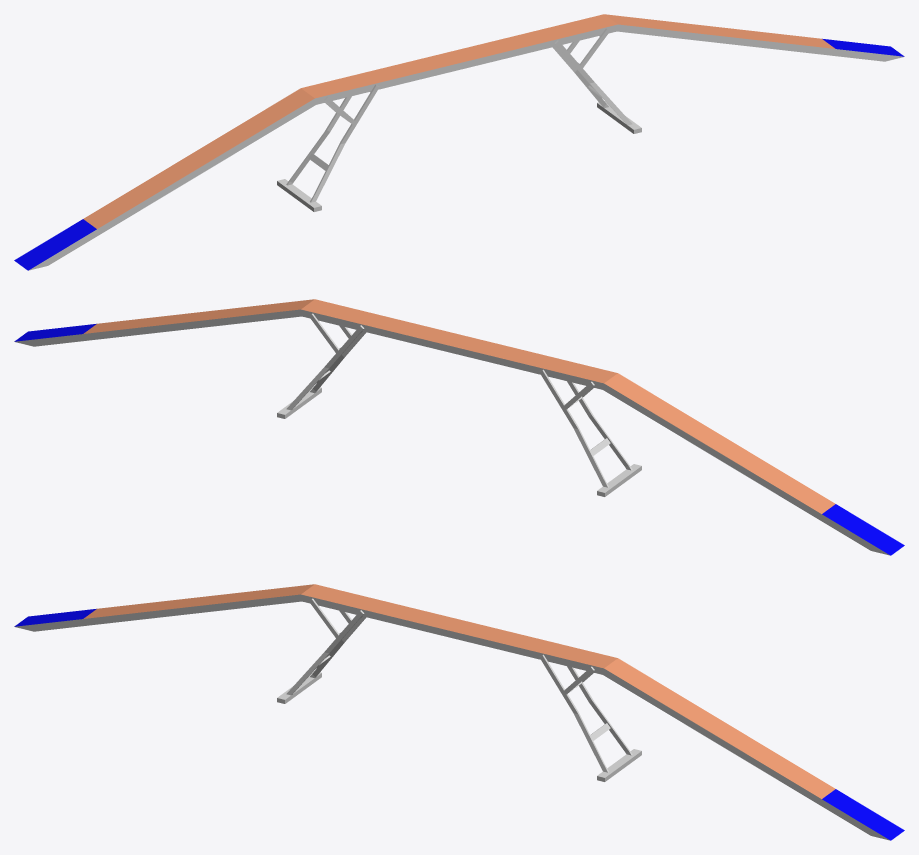
File: dogwalk.fbx
3 views of the same model, one above another, from view 1: azimuth 30°, elevation 25°; view 2: azimuth 150°, elevation 25°; view 3: azimuth 330°, elevation 25° (orthographic).
Parts seen in each view (by area): view 1: Part 1; view 2: Part 1; view 3: Part 1.
Boxes of the visible parts, box(x1,y1,x2,y2) form: Part 1: box(14, 14, 904, 270); Part 1: box(14, 299, 904, 555); Part 1: box(14, 584, 904, 840).
Size of the model in its own units: 1081 by 120 by 79.
